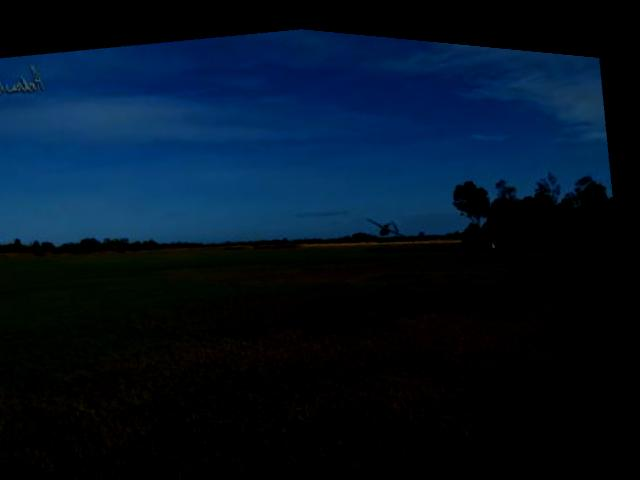uav: (363, 196, 418, 246)
